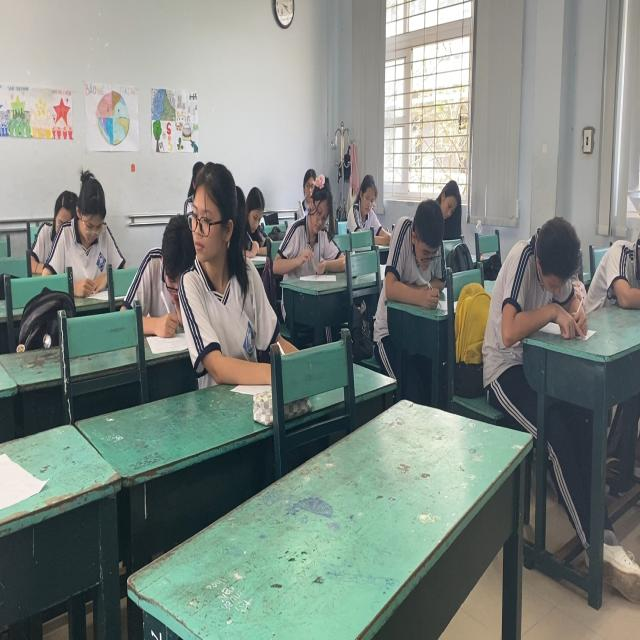cheating: (150, 155, 264, 376)
not_cheating: (490, 217, 588, 342), (387, 194, 451, 314), (56, 162, 120, 279), (284, 172, 342, 259), (342, 172, 391, 234), (432, 169, 472, 238)
